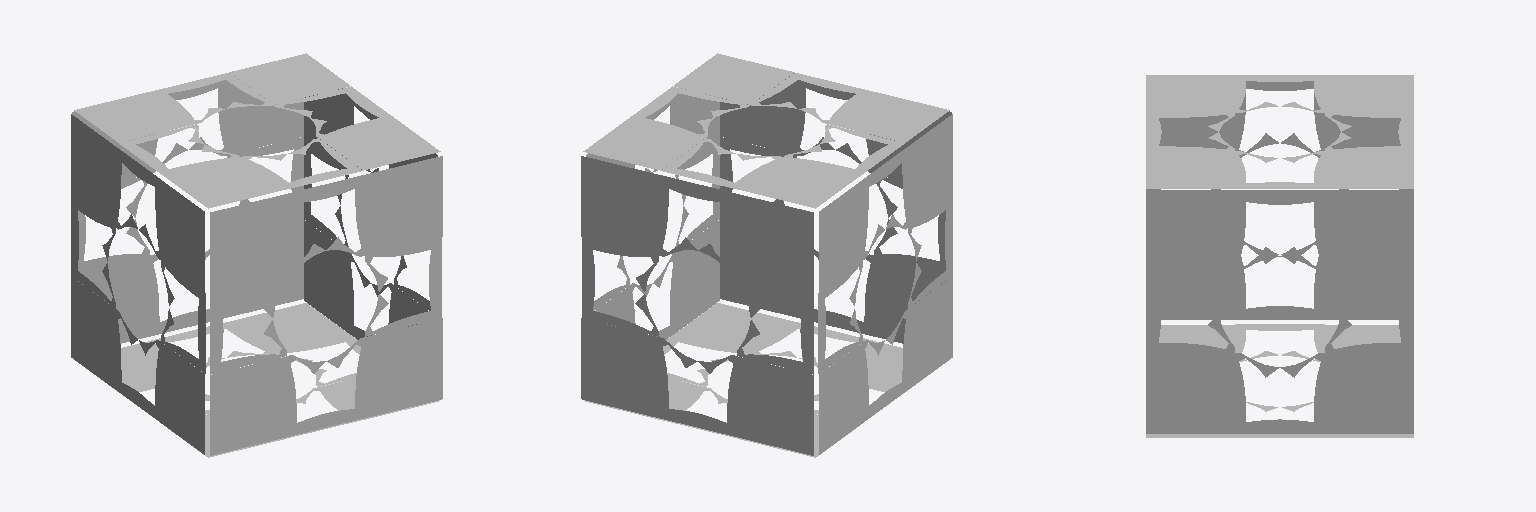
Rendered from PlayerV2.obj.
3 renders of one model, left to right at view 1: azimuth 30°, elevation 25°; view 2: azimuth 150°, elevation 25°; view 3: azimuth 270°, elevation 25°, orthographic.
Parts seen in each view (by area): view 1: pPlane11; view 2: pPlane11; view 3: pPlane11.
Boxes of the visible parts, box(x1,y1,x2,y2) form: pPlane11: box(71, 53, 442, 457); pPlane11: box(581, 53, 952, 457); pPlane11: box(1146, 75, 1413, 437).
Bounding box in the file's own units: 3.04 × 3.07 × 3.07.